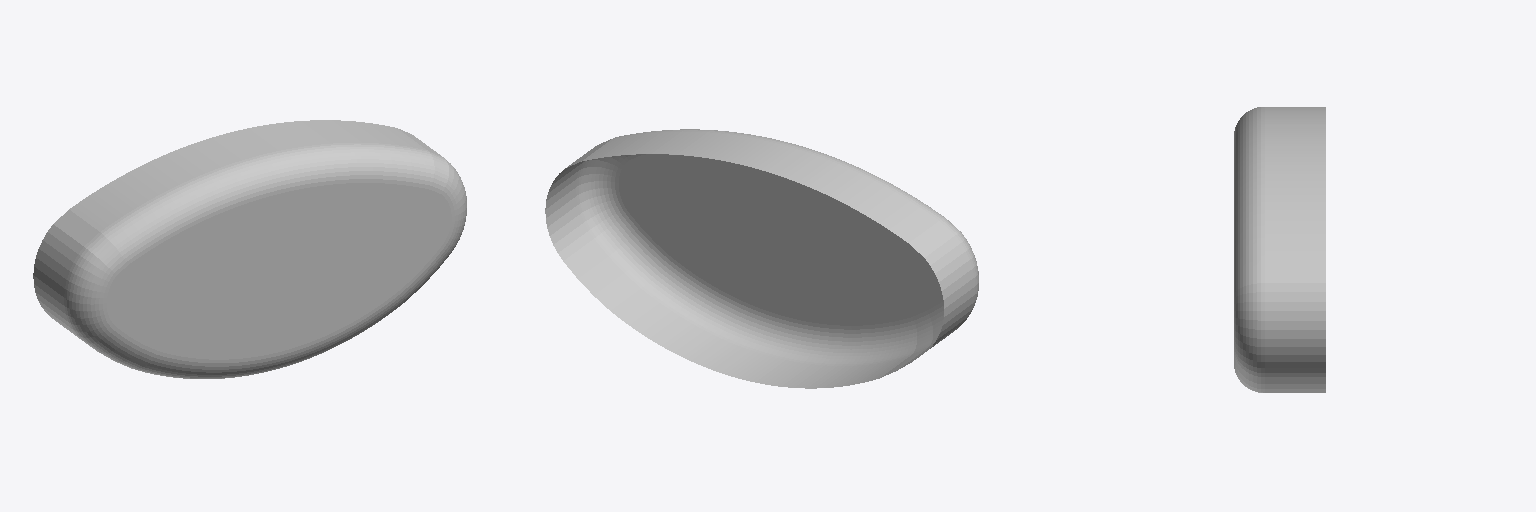
File: original-11.obj
The picture shows the model from 3 angles: view 1: azimuth 30°, elevation 25°; view 2: azimuth 150°, elevation 25°; view 3: azimuth 270°, elevation 25°; orthographic projection.
Visible parts, largest first — view 1: #ID71; view 2: #ID71; view 3: #ID71.
Boxes of the visible parts, box(x1,y1,x2,y2) form: #ID71: box(33, 120, 466, 378); #ID71: box(545, 129, 978, 388); #ID71: box(1234, 107, 1325, 392).
Bounding box in the file's own units: 0.1641 × 0.0843 × 0.033.